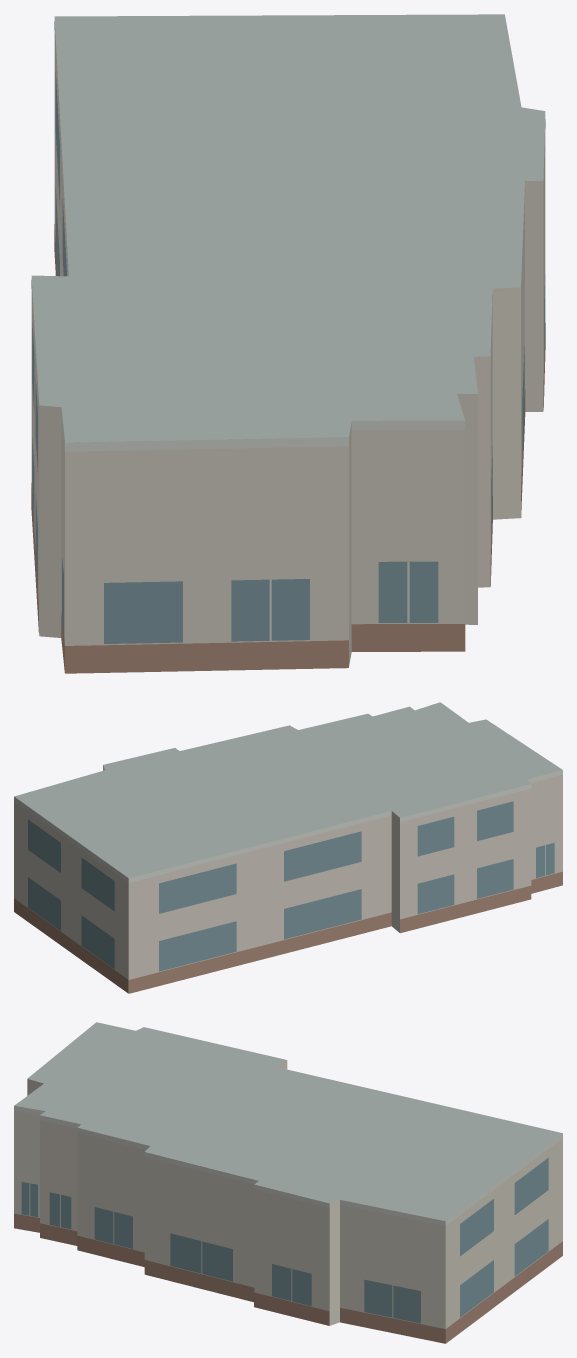
File: survey-upis-32607806.glb
The picture shows the model from 3 angles, top to bottom: view 1: azimuth 30°, elevation 25°; view 2: azimuth 150°, elevation 25°; view 3: azimuth 270°, elevation 25°; orthographic projection. The views are drawn at different scales.
Parts seen in each view (by area): view 1: survey-upis-32607806.tmp; view 2: survey-upis-32607806.tmp; view 3: survey-upis-32607806.tmp.
Part boxes in pixels (x1=…): survey-upis-32607806.tmp: x1=31, y1=14, x2=545, y2=673; survey-upis-32607806.tmp: x1=14, y1=702, x2=562, y2=993; survey-upis-32607806.tmp: x1=14, y1=1022, x2=562, y2=1343.
Size of the model in its own units: 21.26 by 6.1 by 24.76.
